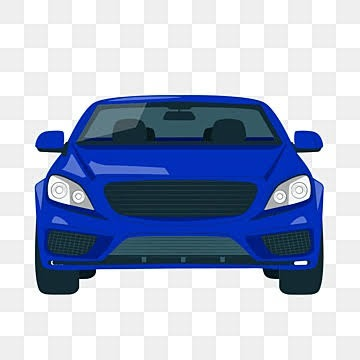car: (27, 98, 318, 293)
